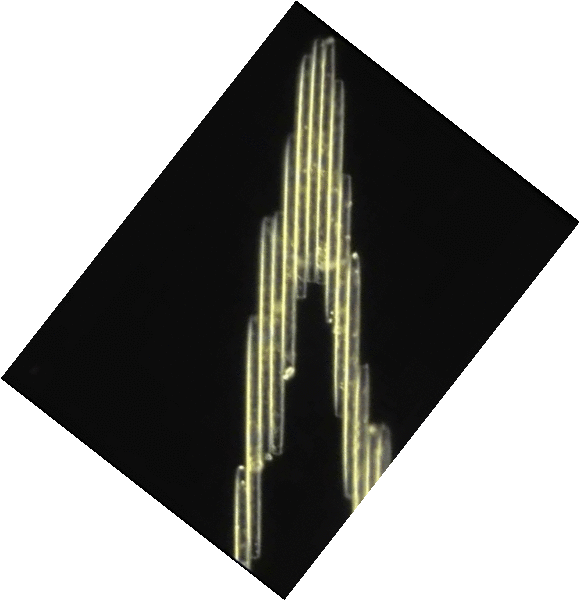bacilleria: (330, 80, 342, 412), (246, 317, 261, 559), (321, 40, 333, 320), (344, 254, 357, 498), (283, 139, 295, 378), (272, 213, 283, 455), (312, 40, 323, 282), (340, 174, 351, 412), (261, 221, 272, 455), (357, 366, 371, 498), (232, 464, 250, 566), (299, 56, 305, 298), (369, 424, 382, 486)
